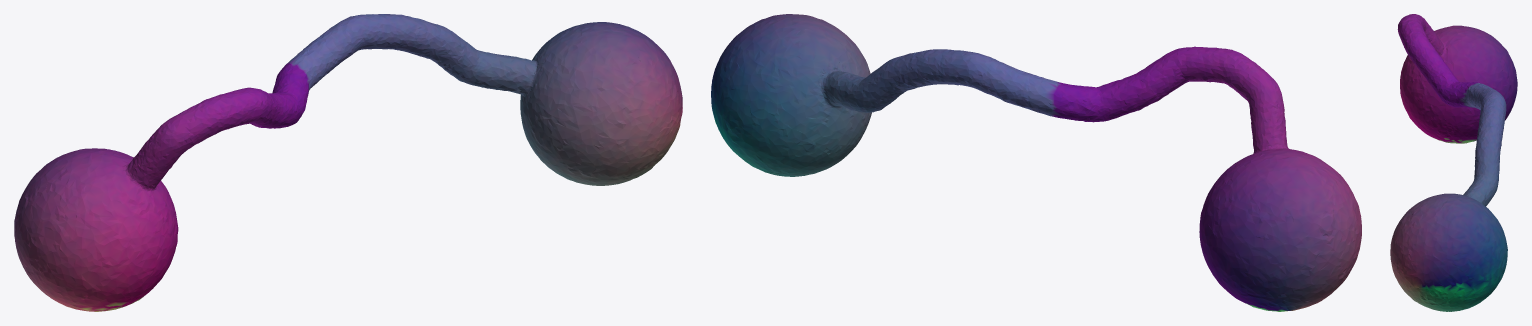
File: twoballs-8.off.obj
3 views of the same model, side by side, from view 1: azimuth 30°, elevation 25°; view 2: azimuth 150°, elevation 25°; view 3: azimuth 270°, elevation 25° (orthographic). The views are drawn at different scales.
Size of the model in its own units: 1.77 by 0.5532 by 0.4239.
